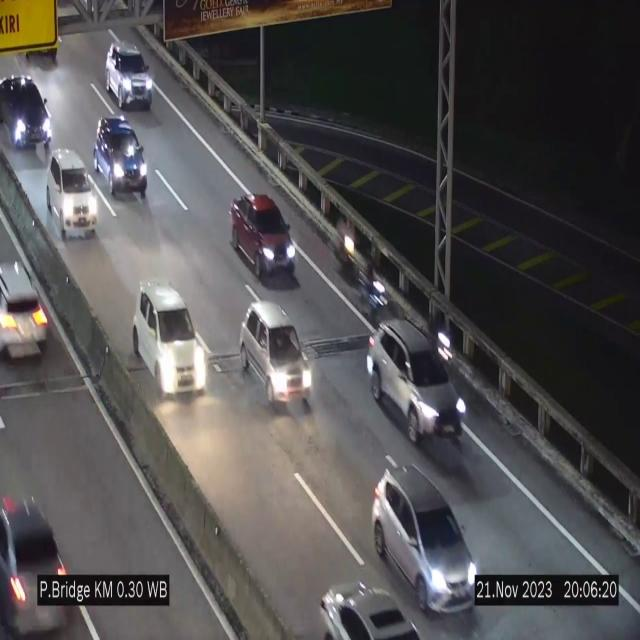Car: (373, 465, 479, 615), (368, 324, 464, 456), (238, 299, 314, 415), (133, 281, 207, 393), (0, 240, 50, 370), (232, 193, 296, 283), (46, 149, 98, 239), (0, 72, 54, 155), (94, 115, 147, 199), (105, 42, 153, 110)
Motorcycle: (428, 306, 452, 368), (337, 215, 357, 287), (366, 256, 386, 324)
